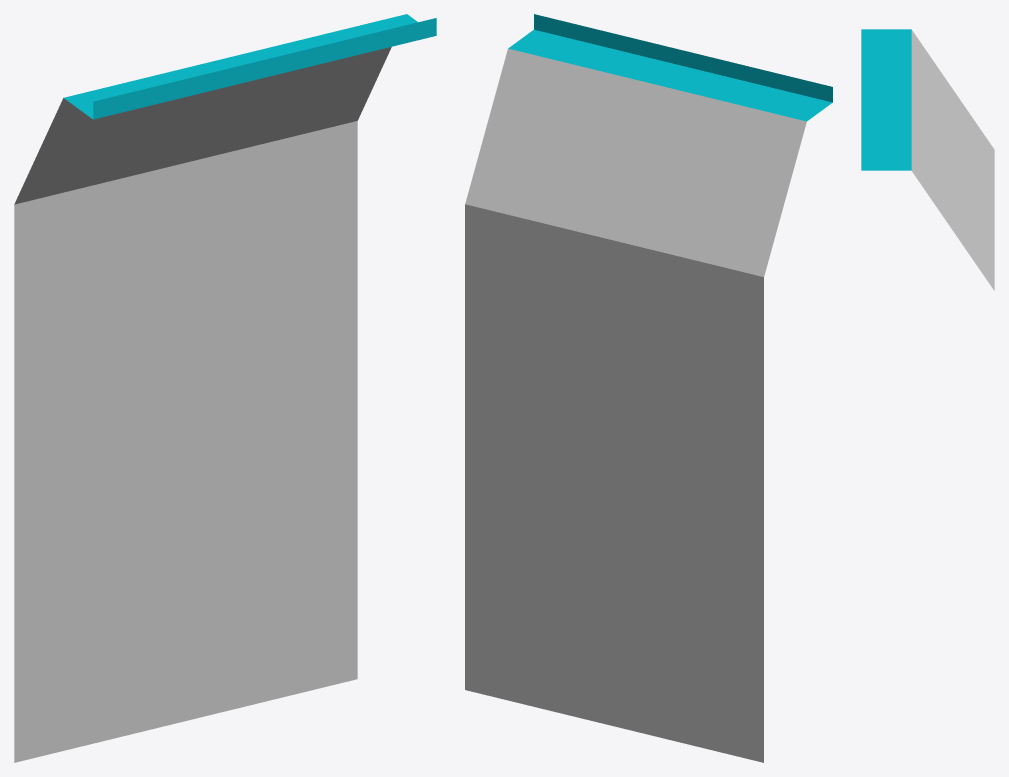
Rendered from Wall_Str.fbx.
The picture shows the model from 3 angles, left to right: view 1: azimuth 30°, elevation 25°; view 2: azimuth 150°, elevation 25°; view 3: azimuth 270°, elevation 25°; orthographic projection. The views are drawn at different scales.
Visible parts, largest first — view 1: Wall_S; view 2: Wall_S; view 3: Wall_S.
Boxes of the visible parts, x1,y1,x2,y2 form: Wall_S: [14, 14, 436, 762]; Wall_S: [465, 14, 832, 762]; Wall_S: [861, 29, 994, 290].
Bounding box in the file's own units: 2 × 4 × 0.7965.
